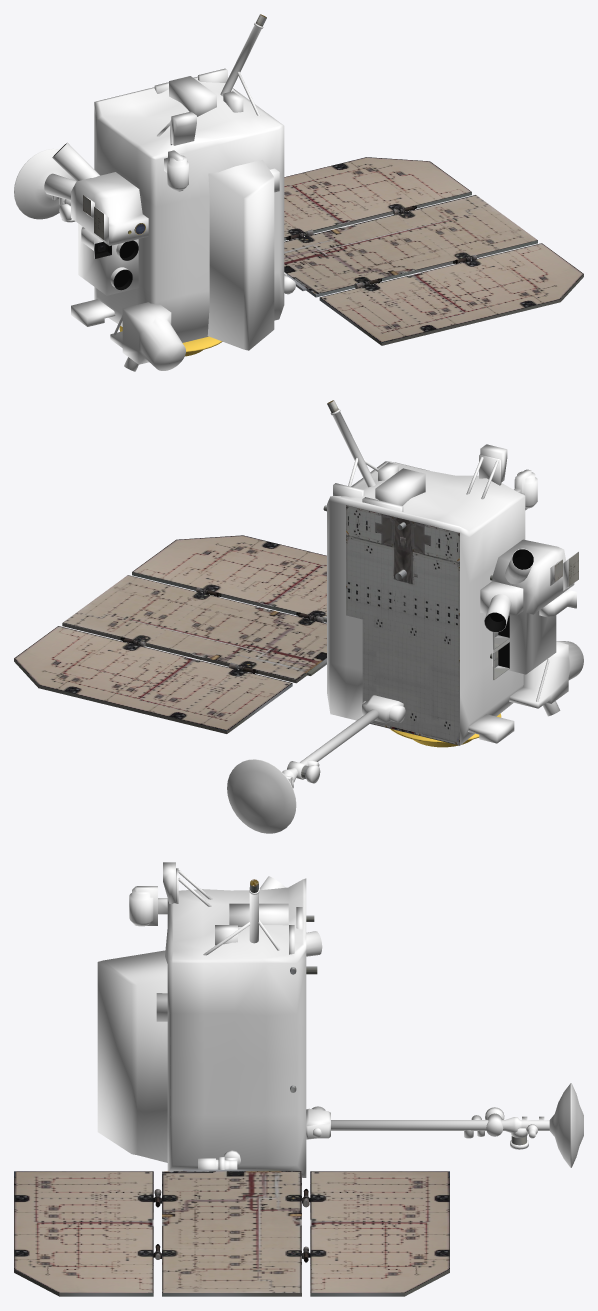
Rendered from LRO.gltf.
3 views of the same model, one above another, from view 1: azimuth 30°, elevation 25°; view 2: azimuth 150°, elevation 25°; view 3: azimuth 270°, elevation 25° (orthographic). The views are drawn at different scales.
Parts seen in each view (by area): view 1: LRO, tex, dark_black; view 2: tex, LRO, panel, foil_silver_dish, dark_black; view 3: LRO, tex, foil_silver_dish.
Part boxes in pixels (x1,y1,x2,y2): LRO: (14, 22, 295, 371); tex: (70, 14, 583, 356); dark_black: (53, 143, 138, 290); tex: (14, 400, 578, 778); LRO: (249, 409, 583, 827); panel: (346, 505, 459, 745); foil_silver_dish: (227, 759, 295, 833); dark_black: (484, 549, 533, 668); LRO: (97, 862, 571, 1177); tex: (14, 879, 526, 1296); foil_silver_dish: (571, 1083, 583, 1167).
Size of the model in its own units: 5.45 by 3.66 by 5.5.
Materials: 8 (4 with a texture image).
